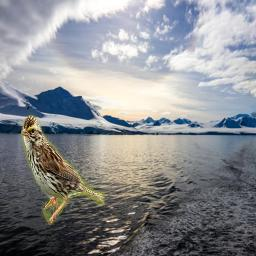Sparrow: (21, 112, 105, 225)
